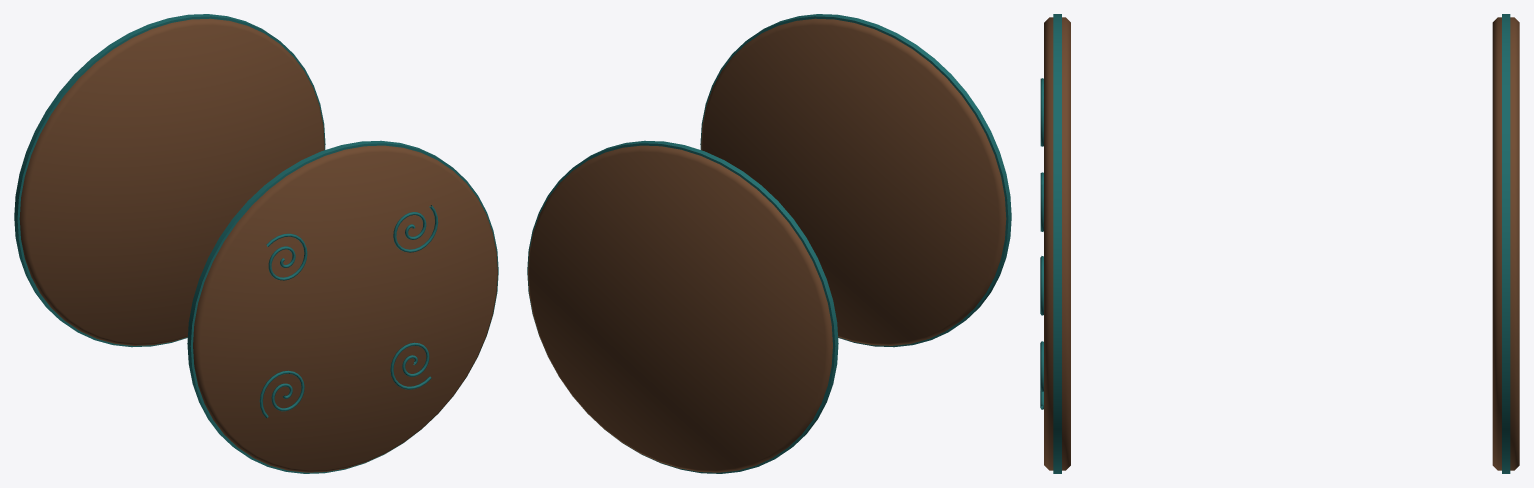
File: k5_discs.obj
3 renders of one model, left to right at view 1: azimuth 30°, elevation 25°; view 2: azimuth 150°, elevation 25°; view 3: azimuth 270°, elevation 25°, orthographic. The views are drawn at different scales.
Parts seen in each view (by area): view 1: k5_discs; view 2: k5_discs; view 3: k5_discs.
Part boxes in pixels (x1=…): k5_discs: x1=14, y1=14, x2=498, y2=473; k5_discs: x1=527, y1=14, x2=1011, y2=473; k5_discs: x1=1040, y1=14, x2=1519, y2=473.
Bounding box in the file's own units: 2.15 × 2.15 × 2.24.
